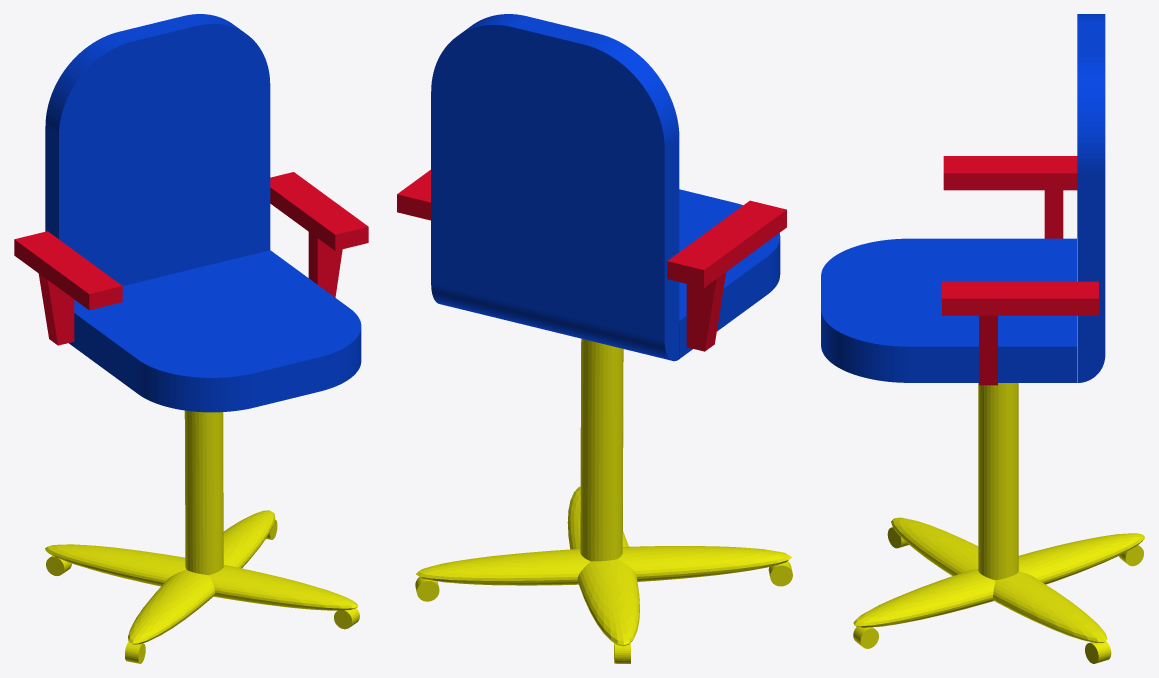
The model's file is Office_Chair.fbx.
3 views of the same model, side by side, from view 1: azimuth 30°, elevation 25°; view 2: azimuth 150°, elevation 25°; view 3: azimuth 270°, elevation 25° (orthographic). The views are drawn at different scales.
Parts seen in each view (by area): view 1: Office_Chair; view 2: Office_Chair; view 3: Office_Chair.
Part boxes in pixels (x1=…): Office_Chair: x1=14, y1=14, x2=368, y2=663; Office_Chair: x1=397, y1=14, x2=792, y2=663; Office_Chair: x1=821, y1=14, x2=1144, y2=663.
Size of the model in its own units: 314 by 580 by 301.
